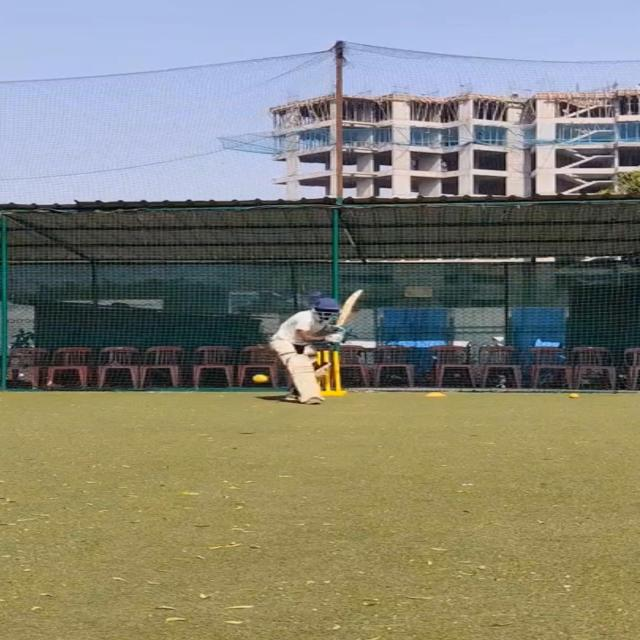ball: (252, 373, 270, 384)
stump: (314, 350, 344, 396)
